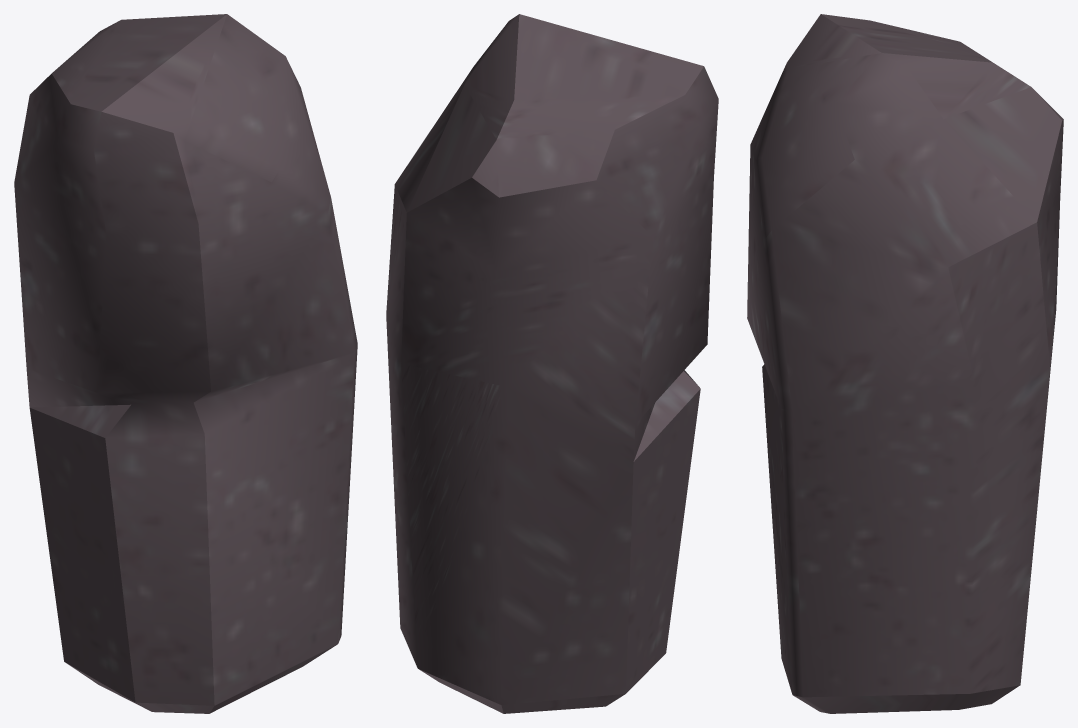
The model's file is StoneA.FBX.
3 views of the same model, side by side, from view 1: azimuth 30°, elevation 25°; view 2: azimuth 150°, elevation 25°; view 3: azimuth 270°, elevation 25° (orthographic).
Parts seen in each view (by area): view 1: StoneA; view 2: StoneA; view 3: StoneA.
Part boxes in pixels (x1,y1,x2,y2): StoneA: [14, 14, 357, 713]; StoneA: [386, 14, 718, 713]; StoneA: [747, 14, 1063, 713].
Size of the model in its own units: 156 by 369 by 161.
Materials: 1 (1 with a texture image).
